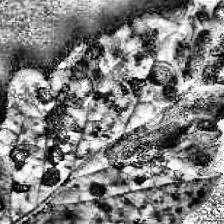Angular Leafspot: (49, 46, 104, 132), (111, 124, 185, 169), (205, 0, 224, 84), (147, 64, 183, 90), (42, 144, 63, 186)
